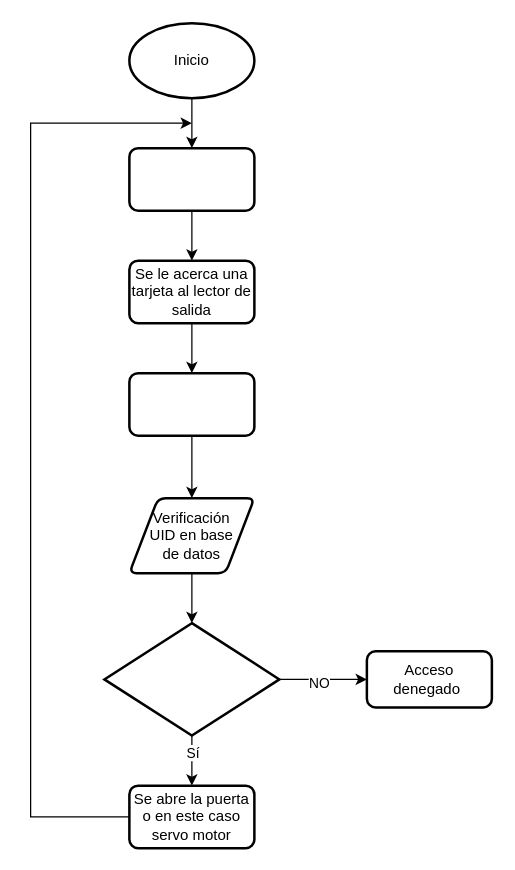
This 515x870 diagram has some shape labels left out. The shapes that lost their labels are listed below. From the top down, each one's centre as x and y in pixels, then its label:
At [191,178]: "Se activa lector RFID de entrada y salida".
At [191,403]: "Se envia dato de la tarjeta a python".
At [191,678]: "¿El UID de la tarjeta se encuentra en base de datos?".
